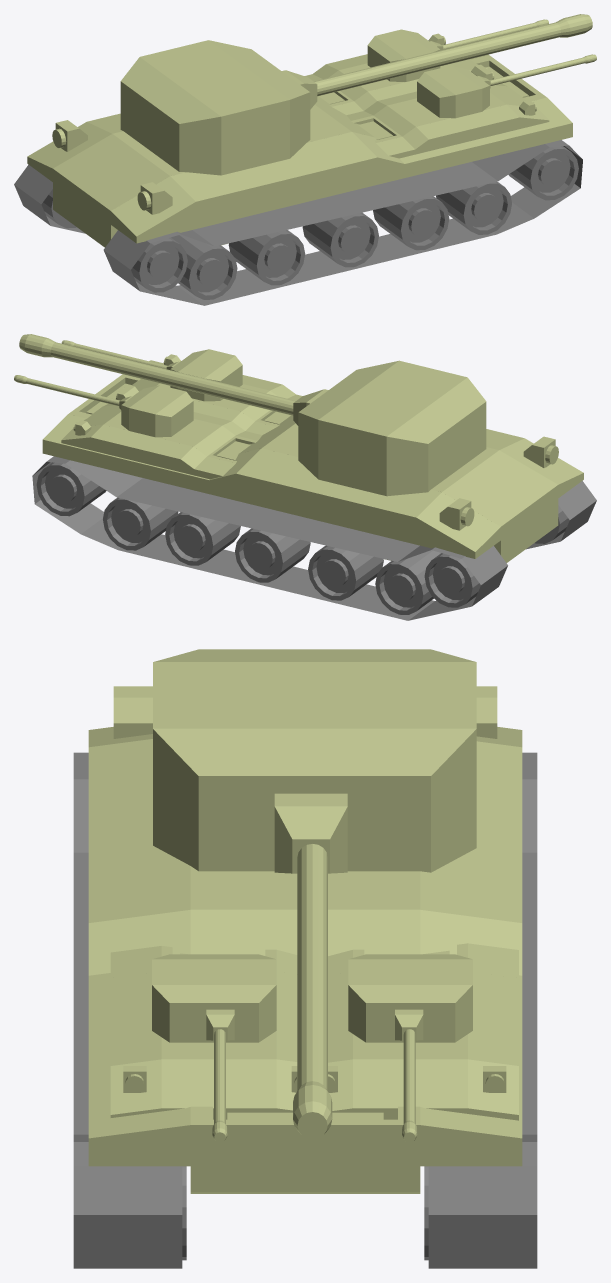
File: tanksTankBoss1.glb
3 renders of one model, top to bottom at view 1: azimuth 30°, elevation 25°; view 2: azimuth 150°, elevation 25°; view 3: azimuth 270°, elevation 25°, orthographic. The views are drawn at different scales.
Parts seen in each view (by area): view 1: Plane.005, Cube.027, Cube.028, Cube.030, Cube.031, Cube.029, Cube.032; view 2: Plane.005, Cube.027, Cube.028, Cube.030, Cube.031, Cube.029, Cube.032; view 3: Cube.027, Cube.028, Cube.030, Plane.005, Cube.031, Cube.029, Cube.032.
Boxes of the visible parts, x1,y1,x2,y2 form: Plane.005: (14, 140, 582, 305); Cube.027: (27, 54, 572, 247); Cube.028: (120, 40, 310, 175); Cube.030: (304, 33, 549, 158); Cube.031: (367, 29, 489, 118); Cube.029: (282, 14, 592, 109); Cube.032: (430, 19, 596, 88); Plane.005: (32, 456, 596, 620); Cube.027: (42, 360, 583, 562); Cube.028: (298, 360, 486, 496); Cube.030: (61, 354, 302, 479); Cube.031: (121, 349, 242, 437); Cube.029: (19, 334, 328, 425); Cube.032: (14, 340, 179, 409); Cube.027: (88, 686, 522, 1193); Cube.028: (153, 649, 476, 872); Cube.030: (110, 943, 518, 1120); Plane.005: (73, 752, 537, 1268); Cube.031: (152, 954, 472, 1042); Cube.029: (274, 793, 347, 1139); Cube.032: (206, 1009, 423, 1142).
Size of the model in its own units: 36.49 by 11.14 by 14.25.
